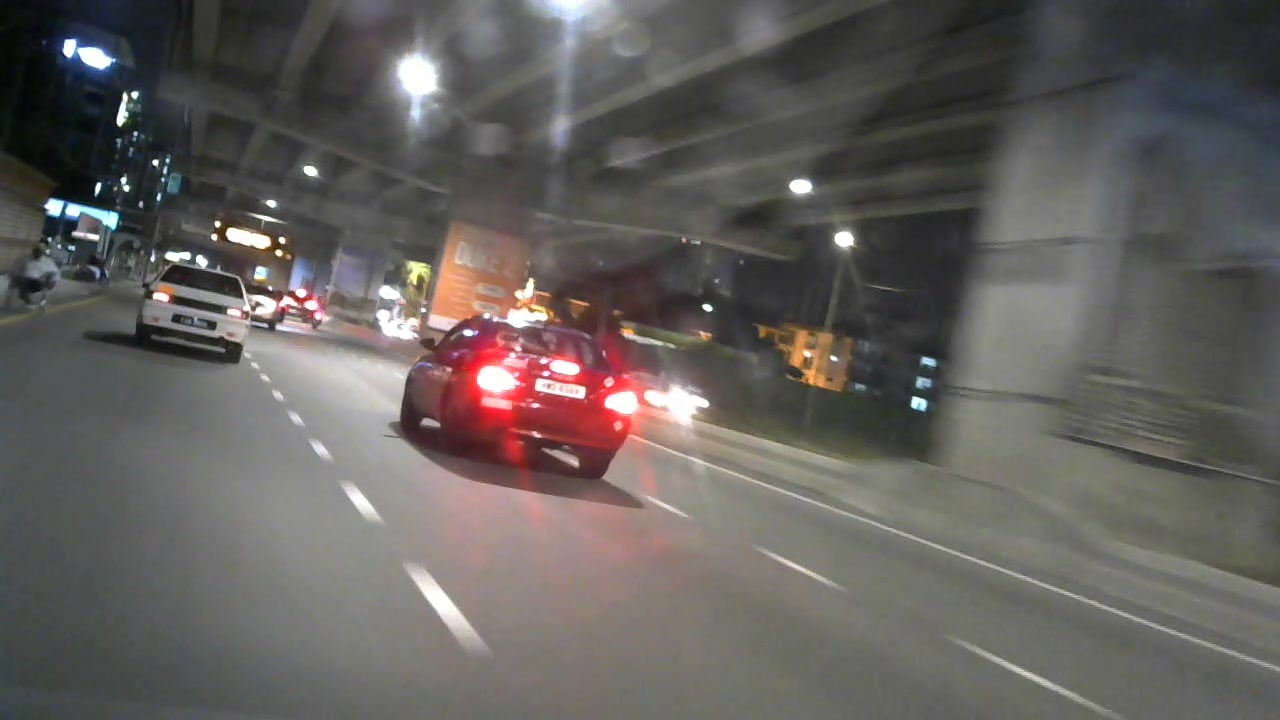Car: (406, 310, 643, 479), (136, 260, 247, 376), (623, 364, 697, 415), (278, 283, 325, 332), (244, 284, 284, 334)
